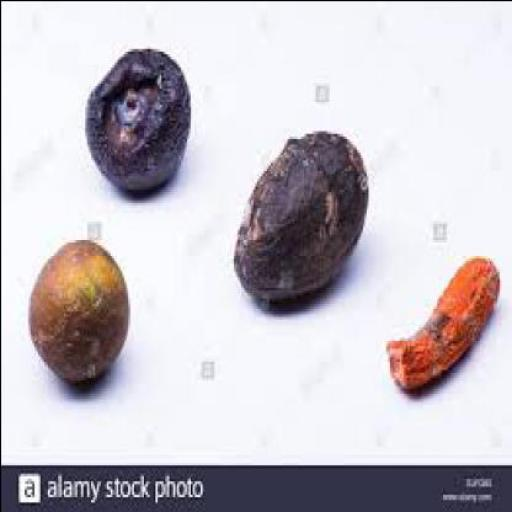biodegradable: (231, 127, 367, 307), (381, 254, 497, 388), (82, 45, 188, 191), (25, 236, 125, 377)
